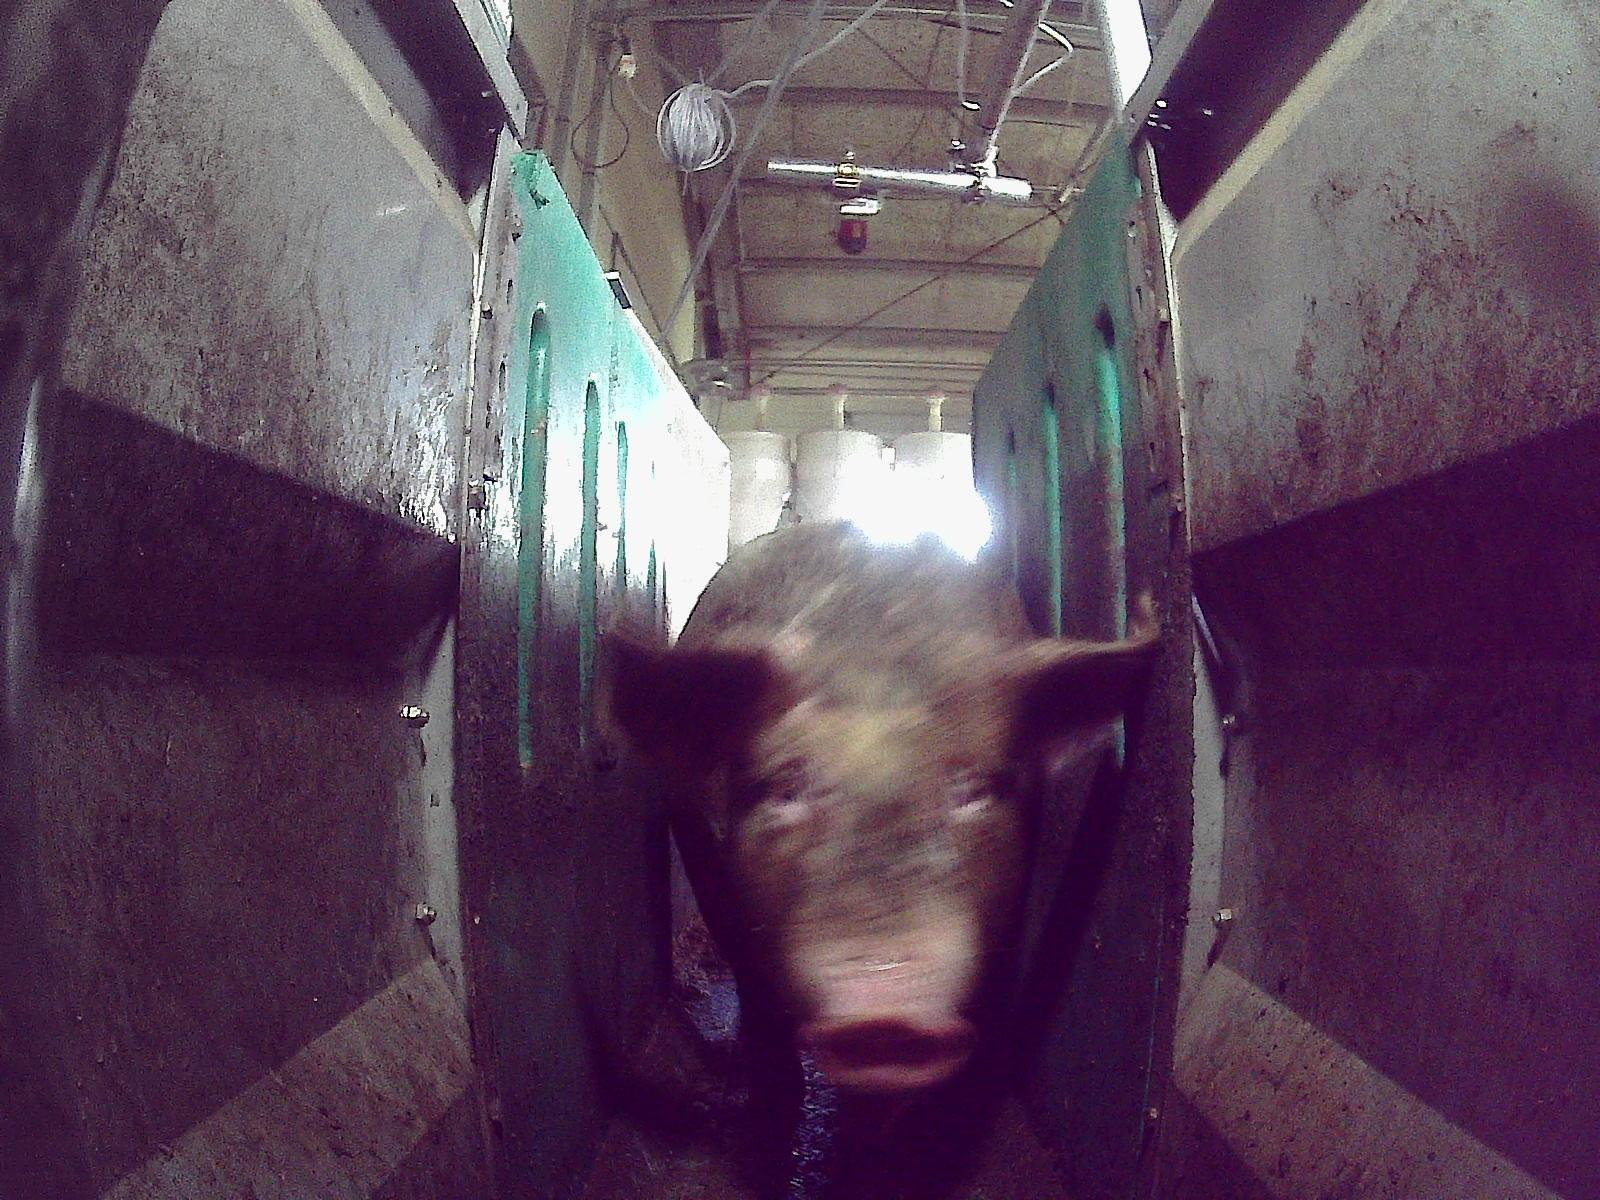Face: (712, 657, 1027, 1093)
